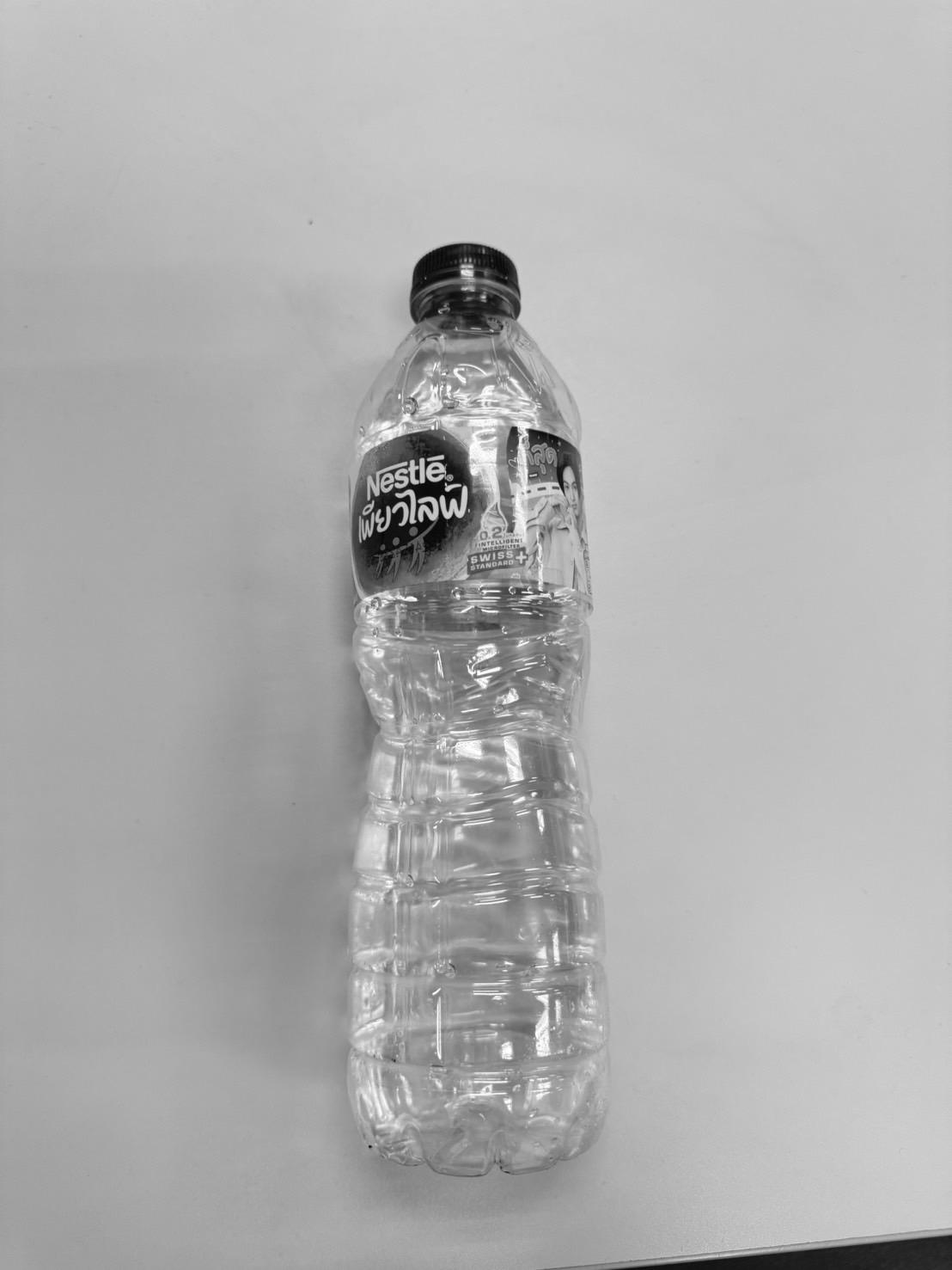bottle: (349, 247, 607, 1175)
